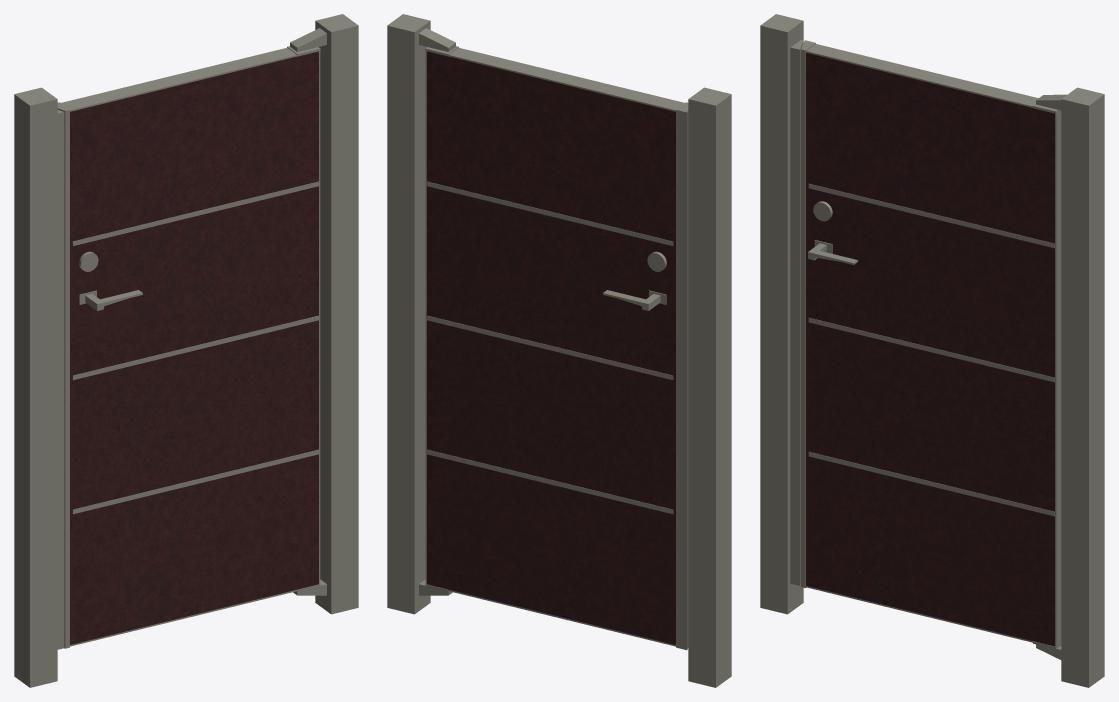
Rendered from abmonpi-line_h1400-w700_rustycopper.fbx.
3 renders of one model, left to right at view 1: azimuth 30°, elevation 25°; view 2: azimuth 150°, elevation 25°; view 3: azimuth 330°, elevation 25°, orthographic.
Parts seen in each view (by area): view 1: abmonpi-line_h1400-w700_rustycopper.004; view 2: abmonpi-line_h1400-w700_rustycopper.004; view 3: abmonpi-line_h1400-w700_rustycopper.004.
Part boxes in pixels (x1,y1,x2,y2): abmonpi-line_h1400-w700_rustycopper.004: (14, 14, 358, 687); abmonpi-line_h1400-w700_rustycopper.004: (387, 14, 731, 687); abmonpi-line_h1400-w700_rustycopper.004: (760, 14, 1104, 687).
Size of the model in its own units: 89.8 by 152 by 16.7.
Materials: 2 (2 with a texture image).
